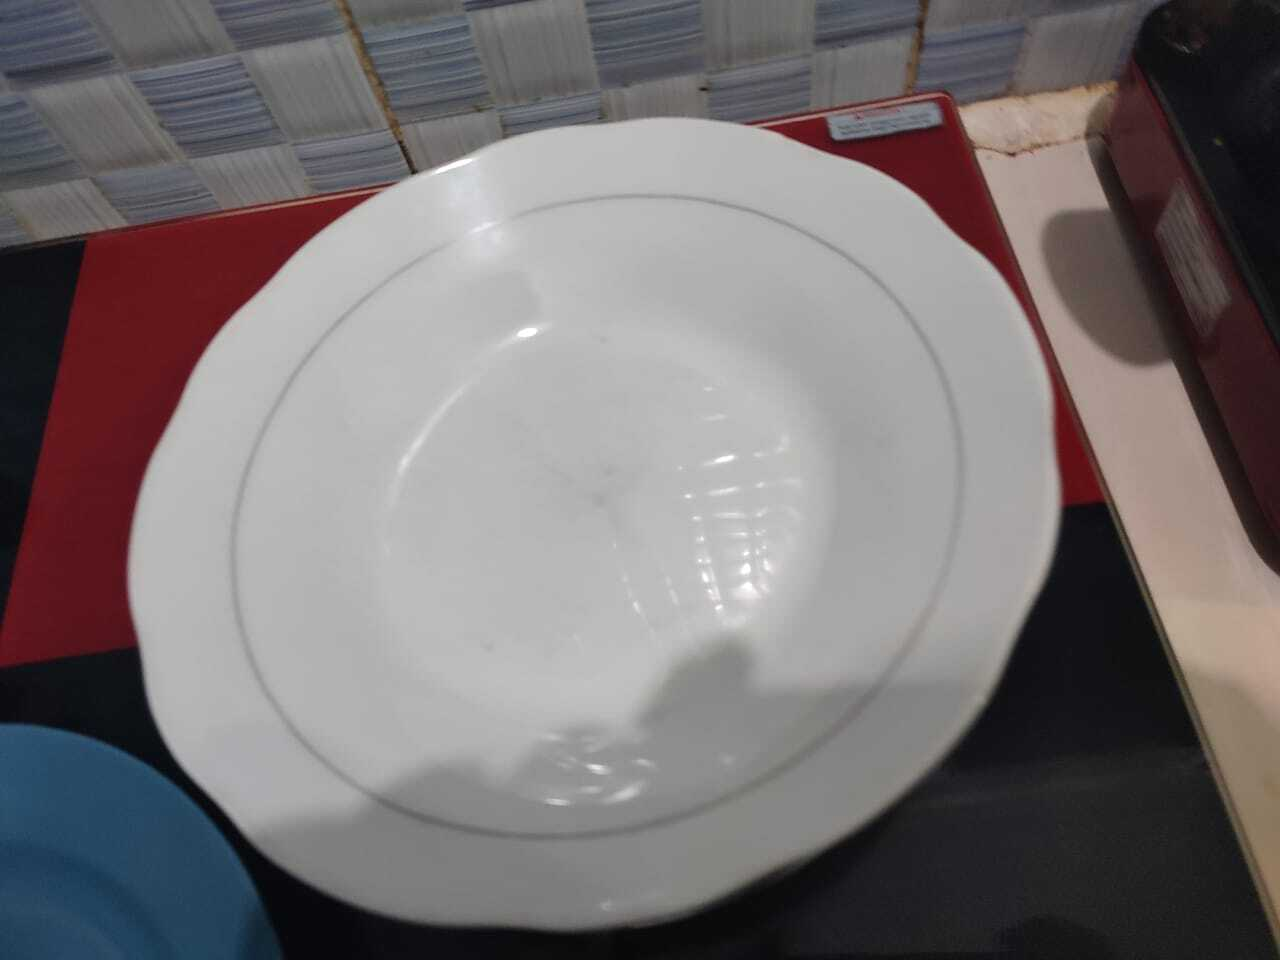piring: (120, 119, 1057, 923)
